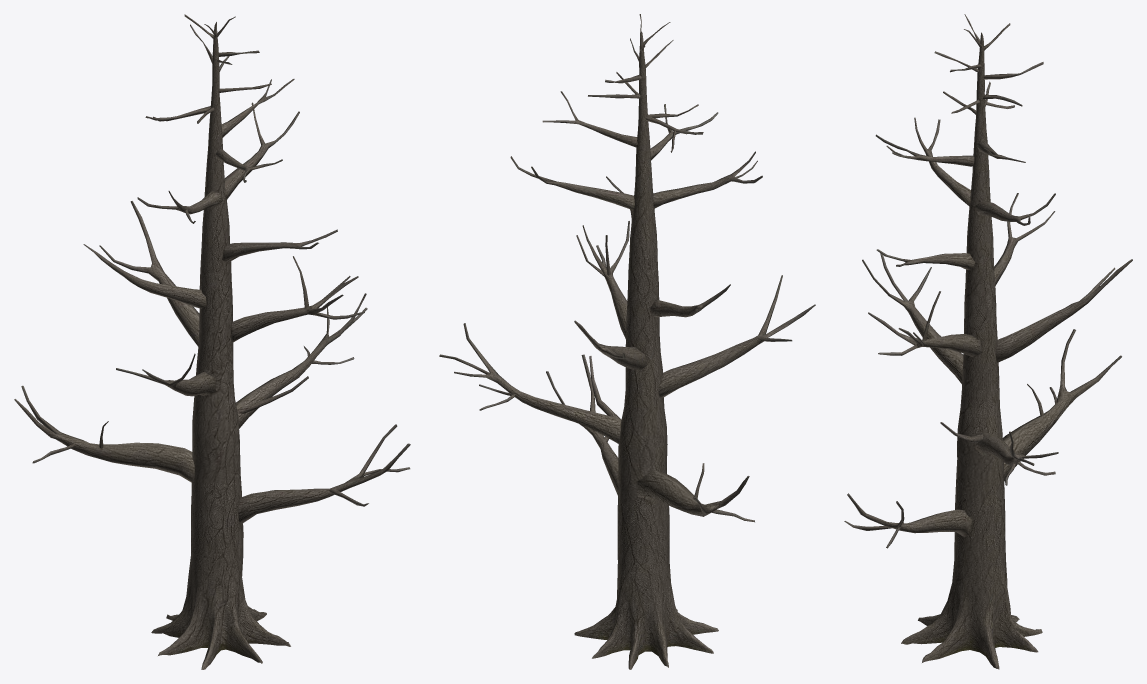
3 renders of one model, left to right at view 1: azimuth 30°, elevation 25°; view 2: azimuth 150°, elevation 25°; view 3: azimuth 270°, elevation 25°, orthographic.
Visible parts, largest first — view 1: mesh_node; view 2: mesh_node; view 3: mesh_node.
Boxes of the visible parts, <box> form: mesh_node: <box>14,14,410,669</box>; mesh_node: <box>439,14,815,669</box>; mesh_node: <box>844,14,1132,669</box>.
Size of the model in its own units: 0.5586 by 1 by 0.4238.
Materials: 1 (1 with a texture image).
